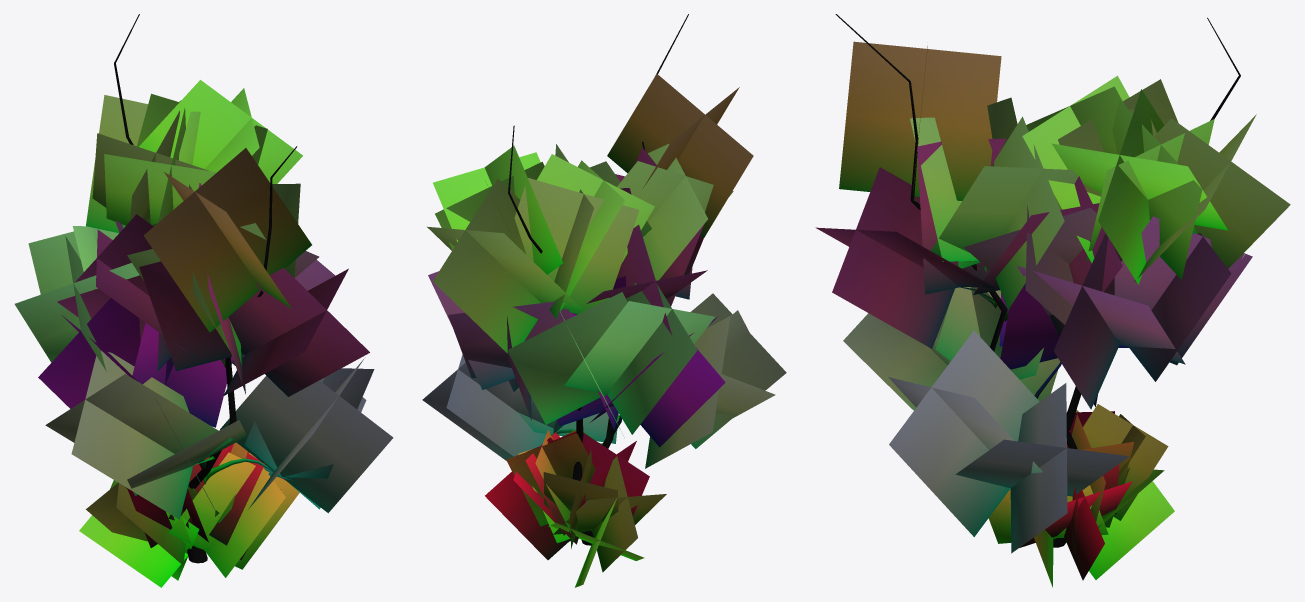
File: URP_P12_Tree_5_LOD_2.fbx
The picture shows the model from 3 angles, left to right: view 1: azimuth 30°, elevation 25°; view 2: azimuth 150°, elevation 25°; view 3: azimuth 270°, elevation 25°; orthographic projection. The views are drawn at different scales.
Visible parts, largest first — view 1: Tree_5_LOD_2; view 2: Tree_5_LOD_2; view 3: Tree_5_LOD_2.
Boxes of the visible parts, <box> form: Tree_5_LOD_2: <box>14,14,393,587</box>; Tree_5_LOD_2: <box>422,14,786,587</box>; Tree_5_LOD_2: <box>815,14,1290,587</box>.
Size of the model in its own units: 190 by 285 by 216.
